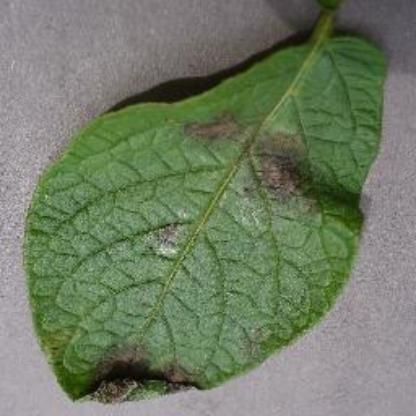Late-Blight: (12, 3, 416, 407)
